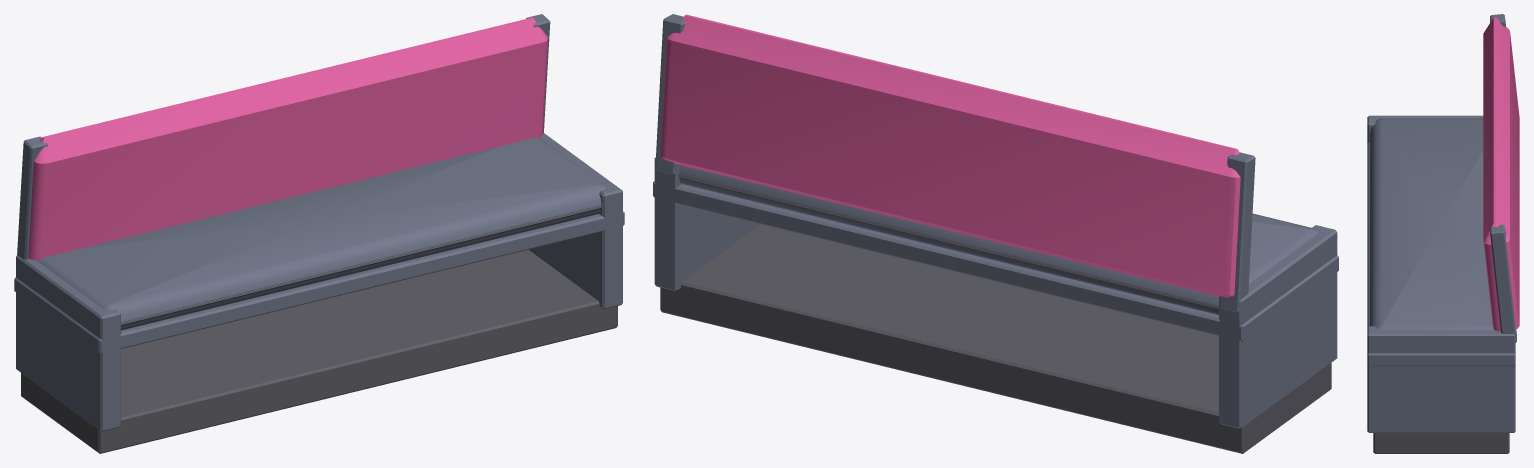
File: bowling-alley-and-pool-hall-bench-seating-run-cb58ccd2__33878.glb
The picture shows the model from 3 angles, left to right: view 1: azimuth 30°, elevation 25°; view 2: azimuth 150°, elevation 25°; view 3: azimuth 270°, elevation 25°; orthographic projection. The views are drawn at different scales.
Visible parts, largest first — view 1: bench-seating-run; view 2: bench-seating-run; view 3: bench-seating-run.
Boxes of the visible parts, x1,y1,x2,y2 form: bench-seating-run: [14, 14, 624, 453]; bench-seating-run: [653, 14, 1338, 453]; bench-seating-run: [1367, 14, 1519, 453].
Bounding box in the file's own units: 1.76 × 0.8385 × 0.5131.
